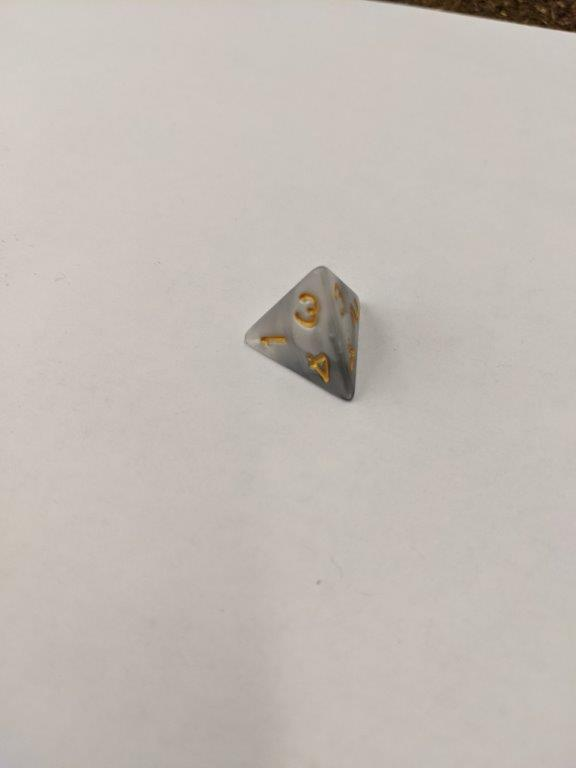d4-3: (237, 261, 364, 405)
